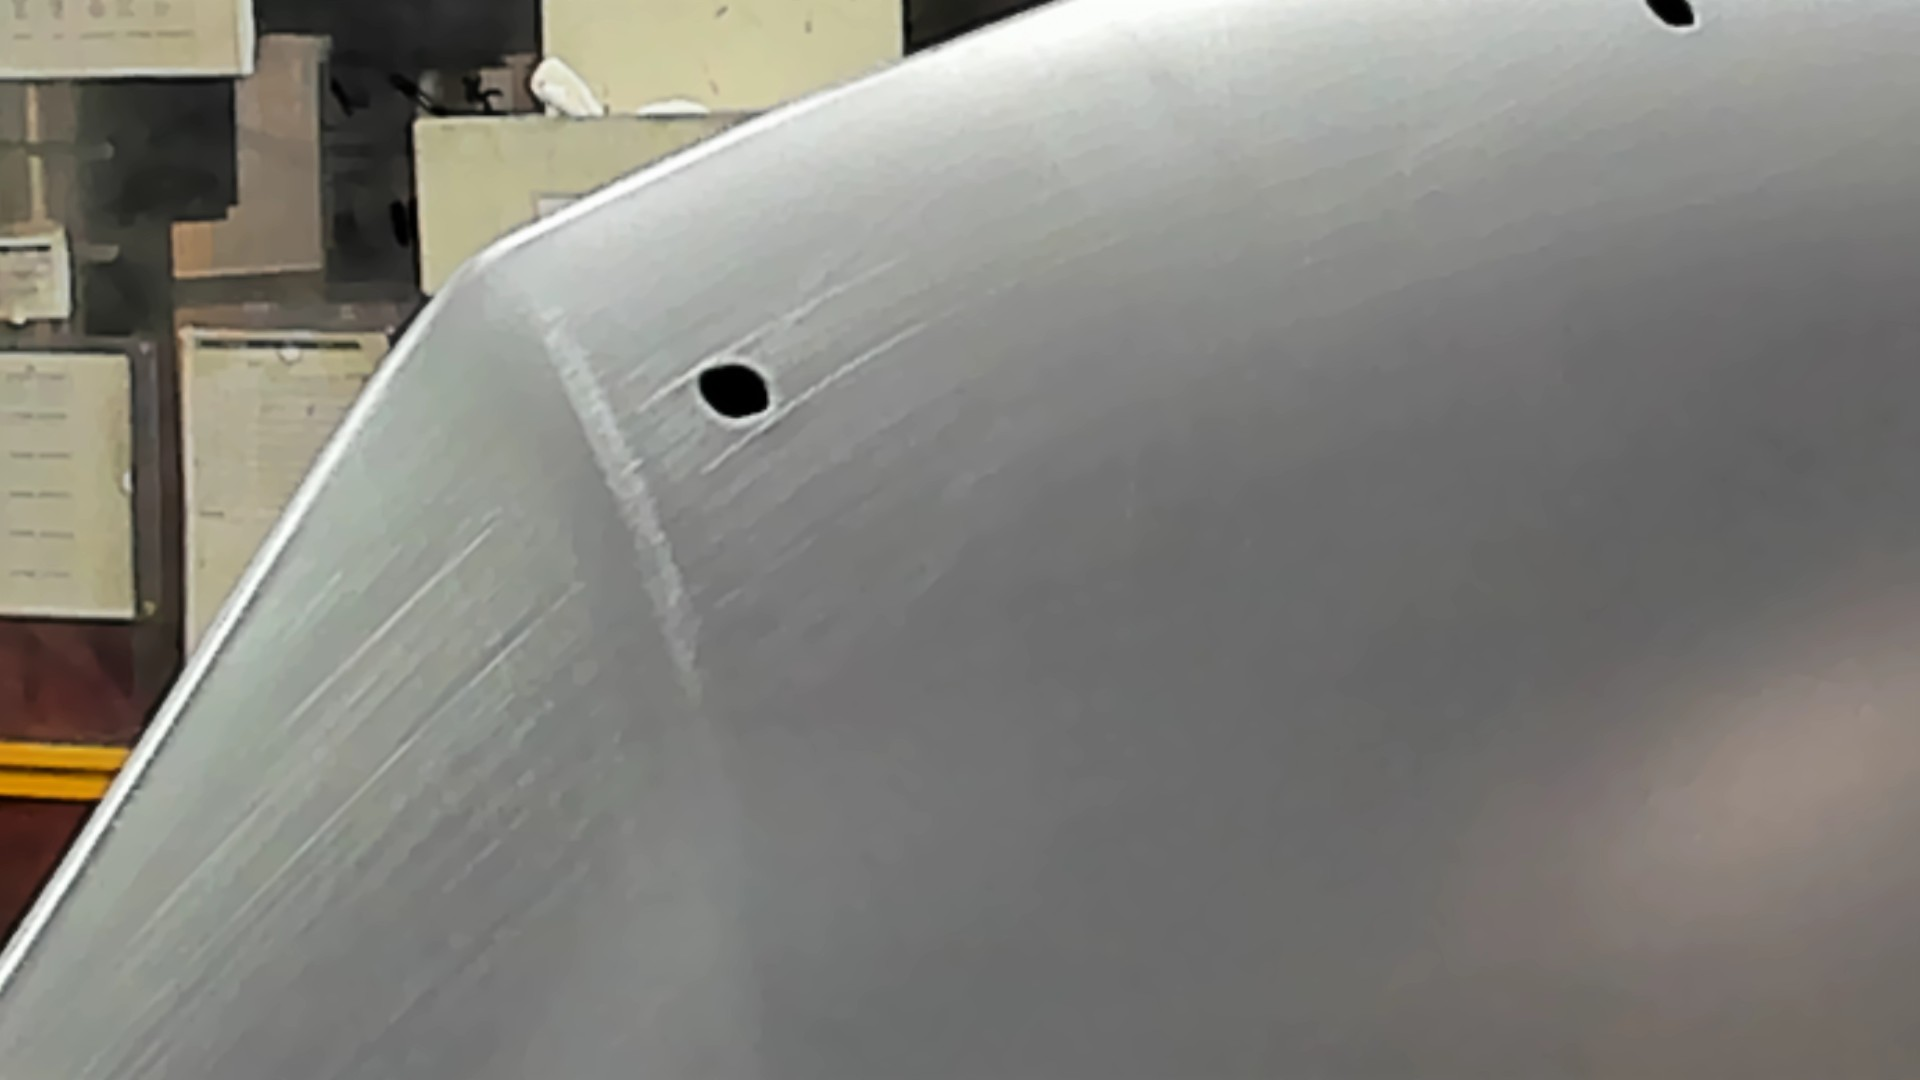amorfo: (691, 355, 782, 433), (1634, 1, 1705, 41)
capo: (874, 105, 1920, 1080)
